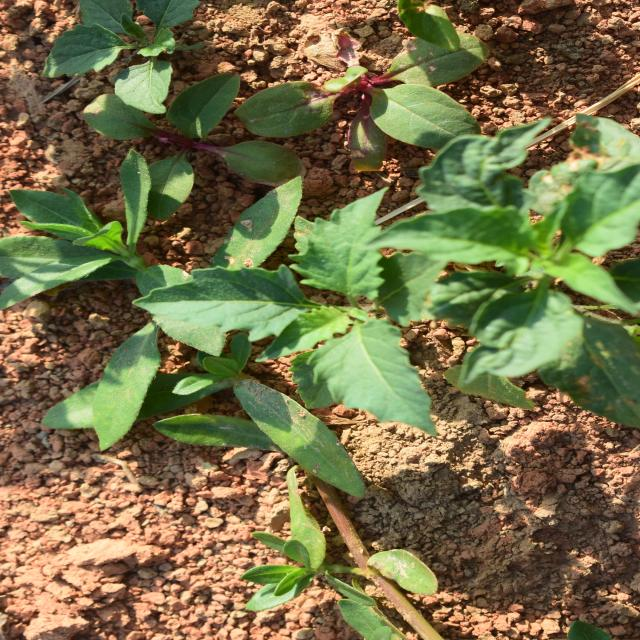Black_nightshade: (224, 396, 524, 630), (226, 170, 447, 429)
